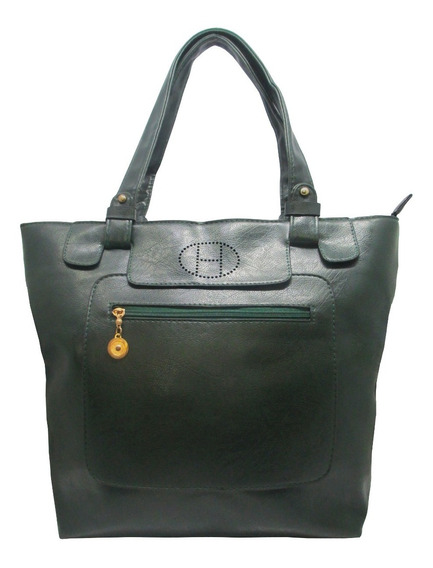cartera: (18, 27, 403, 541)
